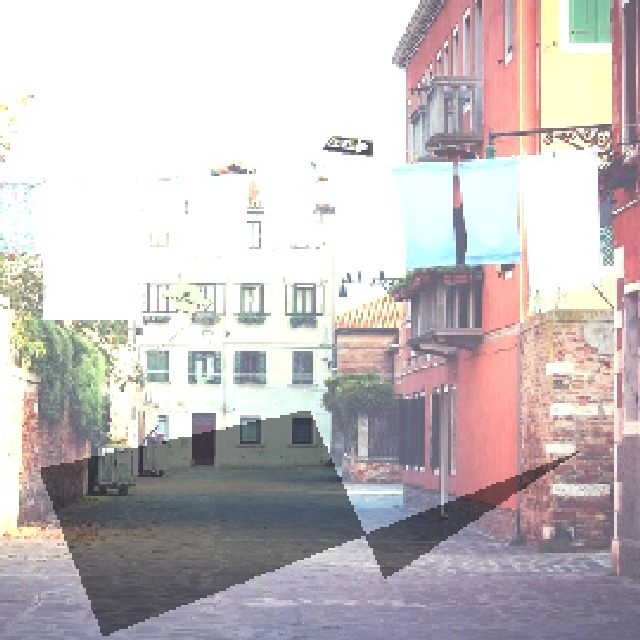GO_AROUND: (159, 279, 211, 313)
ONE_WAY_ right: (319, 134, 371, 155)
